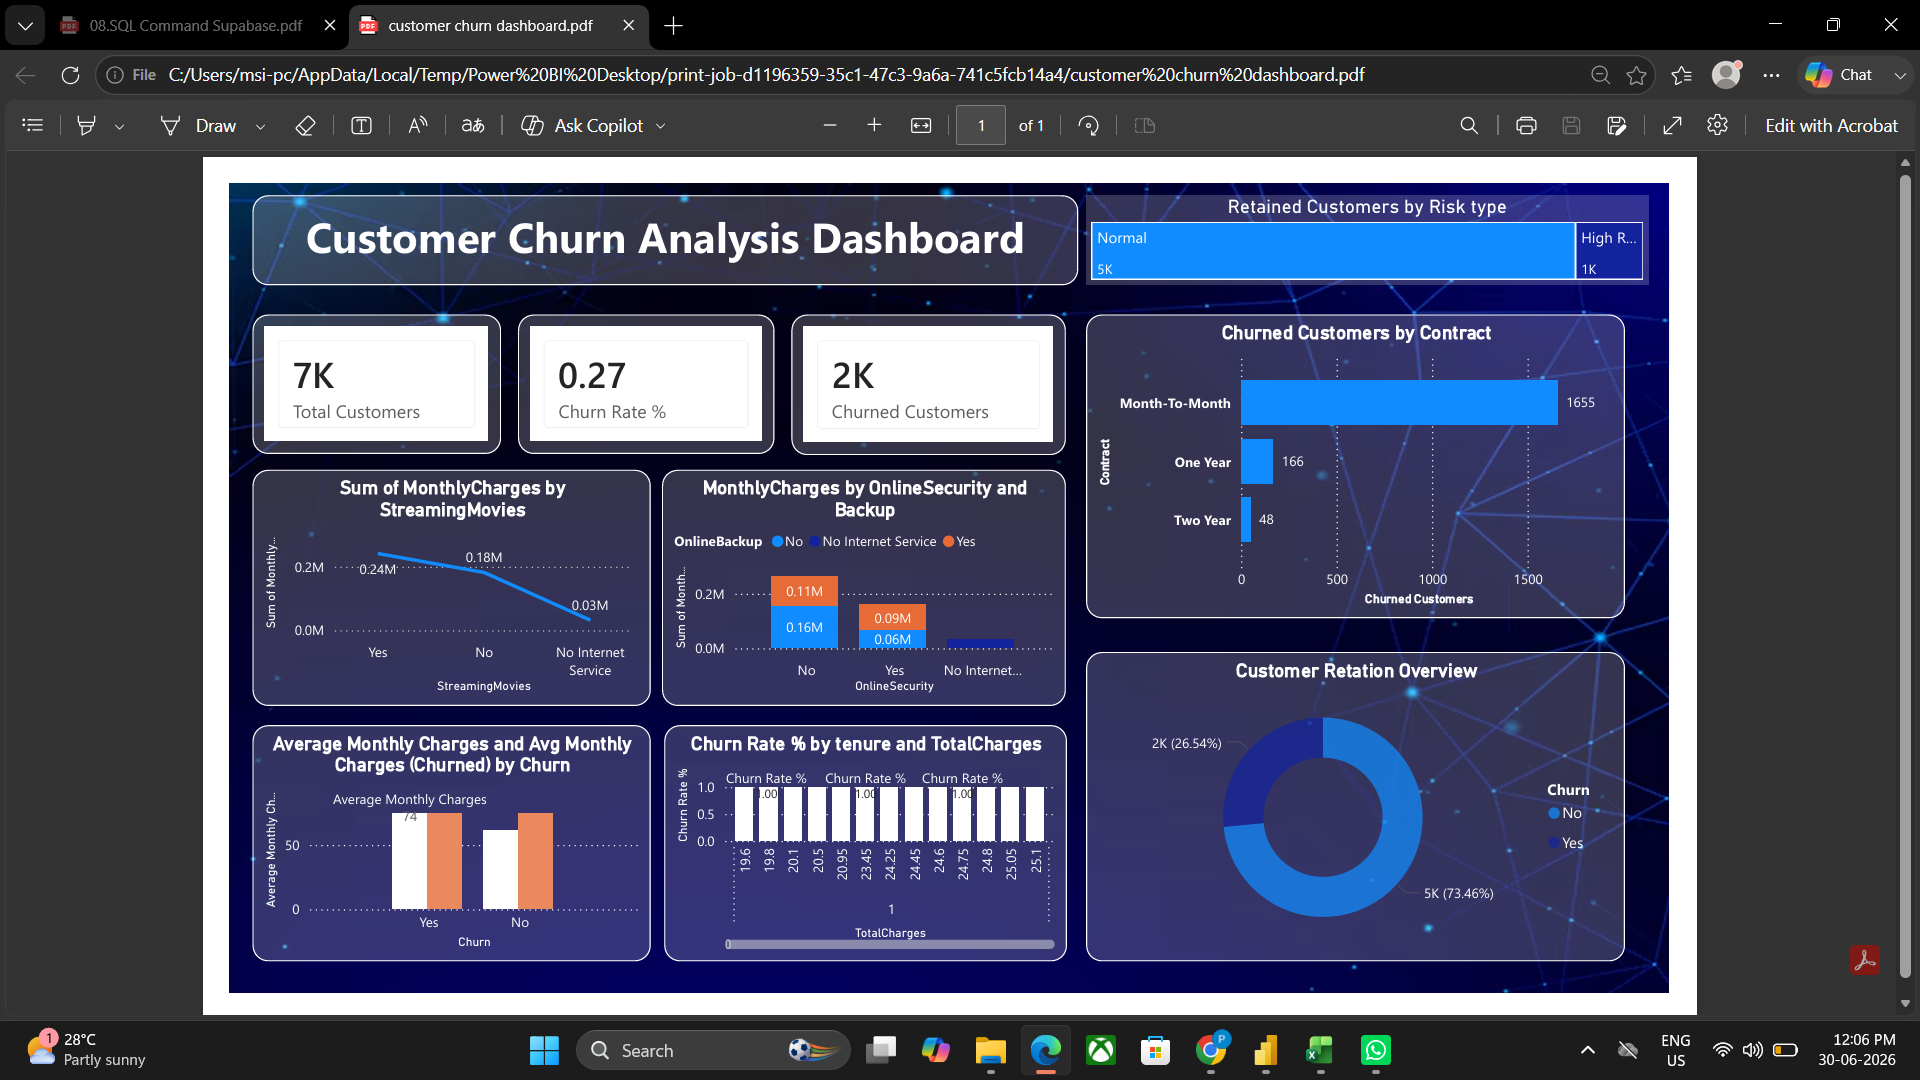

The dashboard page shown, as its layout file describes it:
{"tool":"powerbi","page":{"name":"Page 1","canvas":[1280,720],"ordinal":0},"visuals":[{"type":"treemap","fields":{"Group":["telco_churn_unclean.Risk type"],"Values":["Calculated_Measures.Retained Customers"]},"box":[761.4,10,500,80],"z":0},{"type":"textbox","box":[20,10,734.3,80],"z":2001},{"type":"cardVisual","fields":{"Data":["Calculated_Measures.Total Customers"]},"box":[20,115.7,221.4,124.3],"z":2003},{"type":"cardVisual","fields":{"Data":["Calculated_Measures.Churn Rate %"]},"box":[255.7,115.7,228.6,124.3],"z":2005},{"type":"cardVisual","fields":{"Data":["Calculated_Measures.Churned Customers"]},"box":[498.6,115.7,244.3,125.7],"z":2006},{"type":"donutChart","title":"Customer Retation Overview","fields":{"Category":["telco_churn_unclean.Churn"],"Y":["Calculated_Measures.Total Customers"]},"box":[761.4,415.7,478.6,275.7],"z":2007},{"type":"barChart","fields":{"Category":["telco_churn_unclean.Contract"],"Y":["Calculated_Measures.Churned Customers"]},"box":[761.4,115.7,478.6,270],"z":2008},{"type":"columnChart","title":"MonthlyCharges by OnlineSecurity and Backup","fields":{"Category":["telco_churn_unclean.OnlineSecurity"],"Y":["Sum(telco_churn_unclean.MonthlyCharges)"],"Series":["telco_churn_unclean.OnlineBackup"]},"box":[384.3,254.3,358.6,210],"z":2009},{"type":"columnChart","fields":{"Y":["Calculated_Measures.Churn Rate %"],"Category":["telco_churn_unclean.tenure","telco_churn_unclean.TotalCharges"]},"box":[385.7,481.4,358.6,210],"z":2010},{"type":"clusteredColumnChart","fields":{"Y":["Calculated_Measures.Average Monthly Charges","Calculated_Measures.Avg Monthly Charges (Churned)"],"Category":["telco_churn_unclean.Churn"]},"box":[20,481.4,354.3,210],"z":2011},{"type":"lineChart","fields":{"Y":["Sum(telco_churn_unclean.MonthlyCharges)"],"Category":["telco_churn_unclean.StreamingMovies"]},"box":[20,254.3,354.3,210],"z":2012}]}

Visuals, with their boxes on the page's 1280x720 design canvas (x1, y1, x2, y2). These are canvas units, not pixel positions in the 1920x1080 screenshot, which may show the page scaled, cropped or inside an application window:
treemap - telco_churn_unclean.Risk type x Calculated_Measures.Retained Customers: (left=761, top=10, right=1261, bottom=90)
textbox: (left=20, top=10, right=754, bottom=90)
cardVisual - Calculated_Measures.Total Customers: (left=20, top=116, right=241, bottom=240)
cardVisual - Calculated_Measures.Churn Rate %: (left=256, top=116, right=484, bottom=240)
cardVisual - Calculated_Measures.Churned Customers: (left=499, top=116, right=743, bottom=241)
"Customer Retation Overview" donutChart: (left=761, top=416, right=1240, bottom=691)
barChart - telco_churn_unclean.Contract x Calculated_Measures.Churned Customers: (left=761, top=116, right=1240, bottom=386)
"MonthlyCharges by OnlineSecurity and Backup" columnChart: (left=384, top=254, right=743, bottom=464)
columnChart - Calculated_Measures.Churn Rate % x telco_churn_unclean.tenure: (left=386, top=481, right=744, bottom=691)
clusteredColumnChart - Calculated_Measures.Average Monthly Charges x Calculated_Measures.Avg Monthly Charges (Churned): (left=20, top=481, right=374, bottom=691)
lineChart - Sum(telco_churn_unclean.MonthlyCharges) x telco_churn_unclean.StreamingMovies: (left=20, top=254, right=374, bottom=464)
